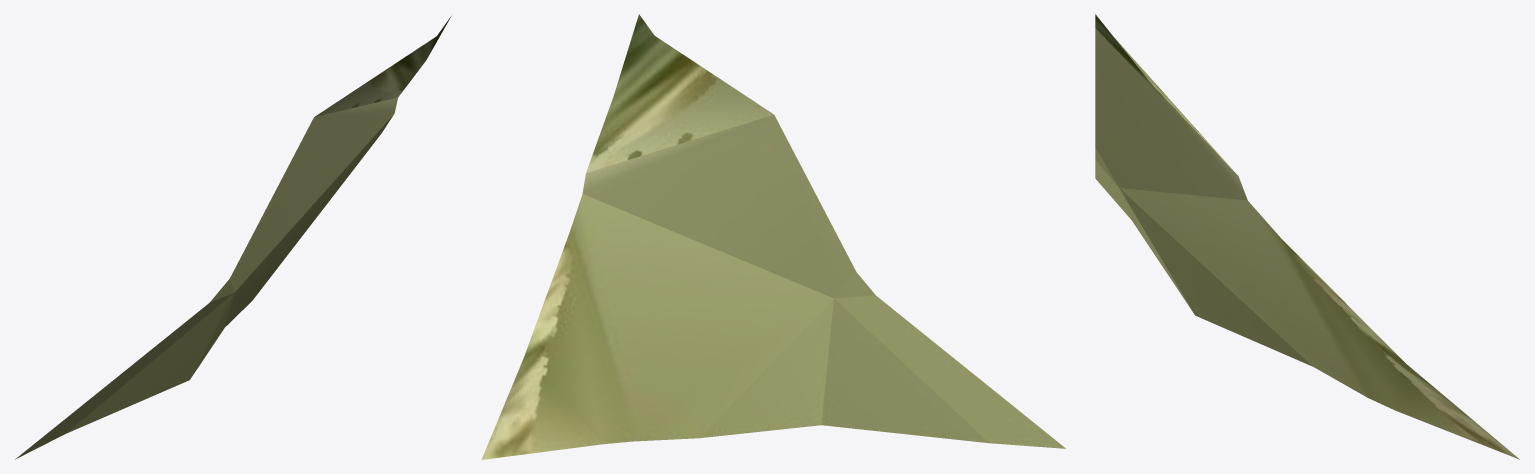
3 views of the same model, side by side, from view 1: azimuth 30°, elevation 25°; view 2: azimuth 150°, elevation 25°; view 3: azimuth 270°, elevation 25° (orthographic). The views are drawn at different scales.
Bounding box in the file's own units: 4.51 × 3.33 × 2.88.
1 material, 1 textured.
